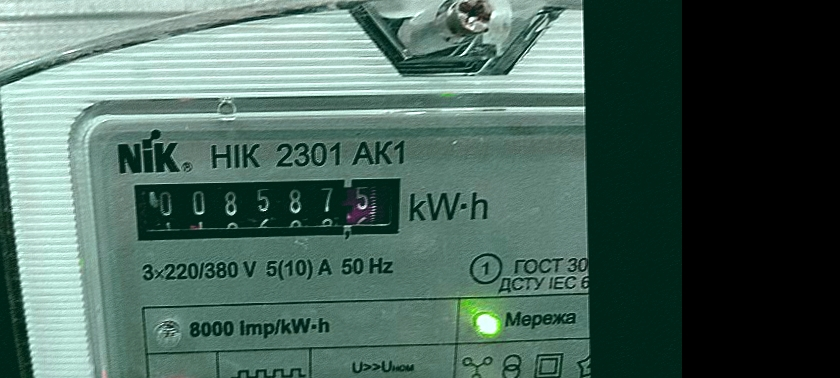0: (155, 185, 173, 214), (189, 185, 207, 213)
5: (353, 181, 371, 210), (253, 183, 271, 211)
7: (317, 180, 335, 211)
8: (285, 182, 303, 212), (221, 185, 238, 214)
screen: (115, 160, 418, 249)
